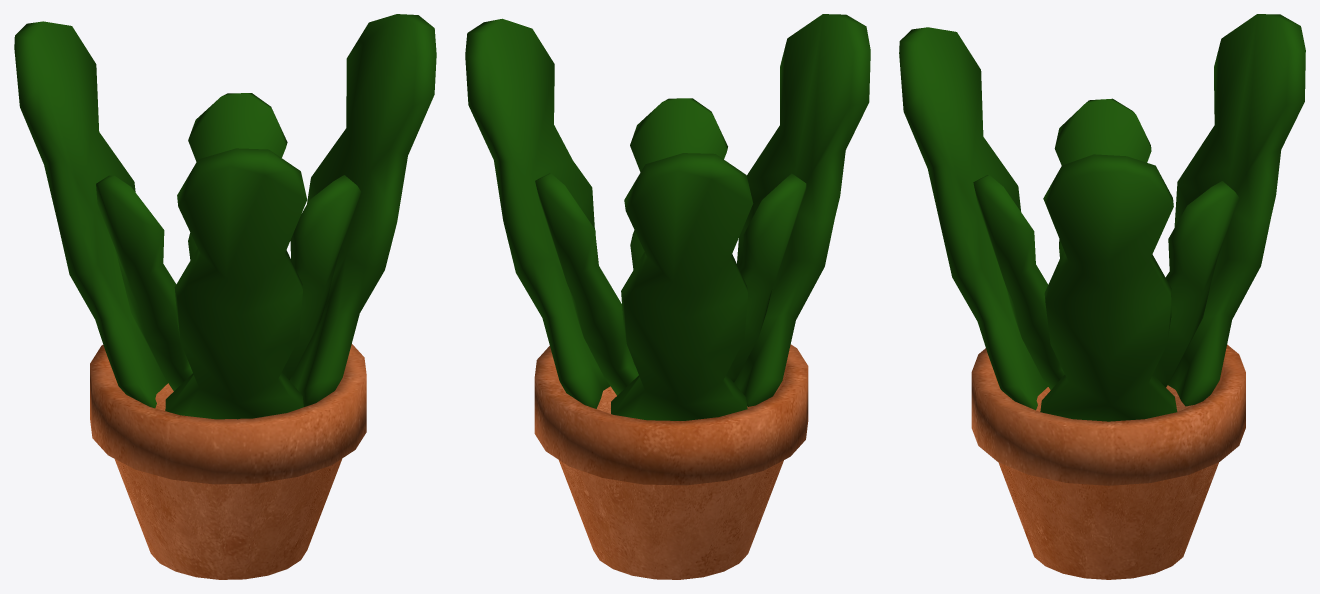
File: Planta01.fbx
3 renders of one model, left to right at view 1: azimuth 30°, elevation 25°; view 2: azimuth 150°, elevation 25°; view 3: azimuth 270°, elevation 25°, orthographic.
Visible parts, largest first — view 1: Planta01; view 2: Planta01; view 3: Planta01.
Part boxes in pixels (left/top/right/bottom): Planta01: left=14, top=14, right=436, bottom=579; Planta01: left=465, top=14, right=870, bottom=579; Planta01: left=899, top=14, right=1305, bottom=579.
Size of the model in its own units: 100 by 135 by 104.
2 materials, 2 textured.
